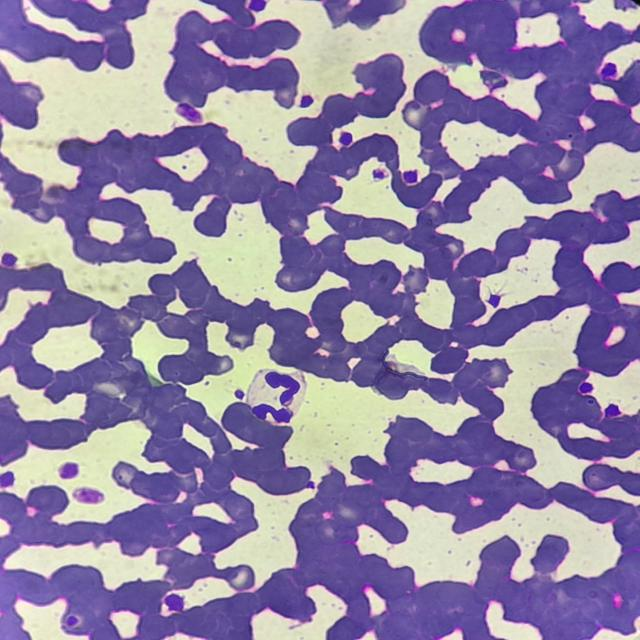Neutrofilo: (243, 365, 306, 429)
